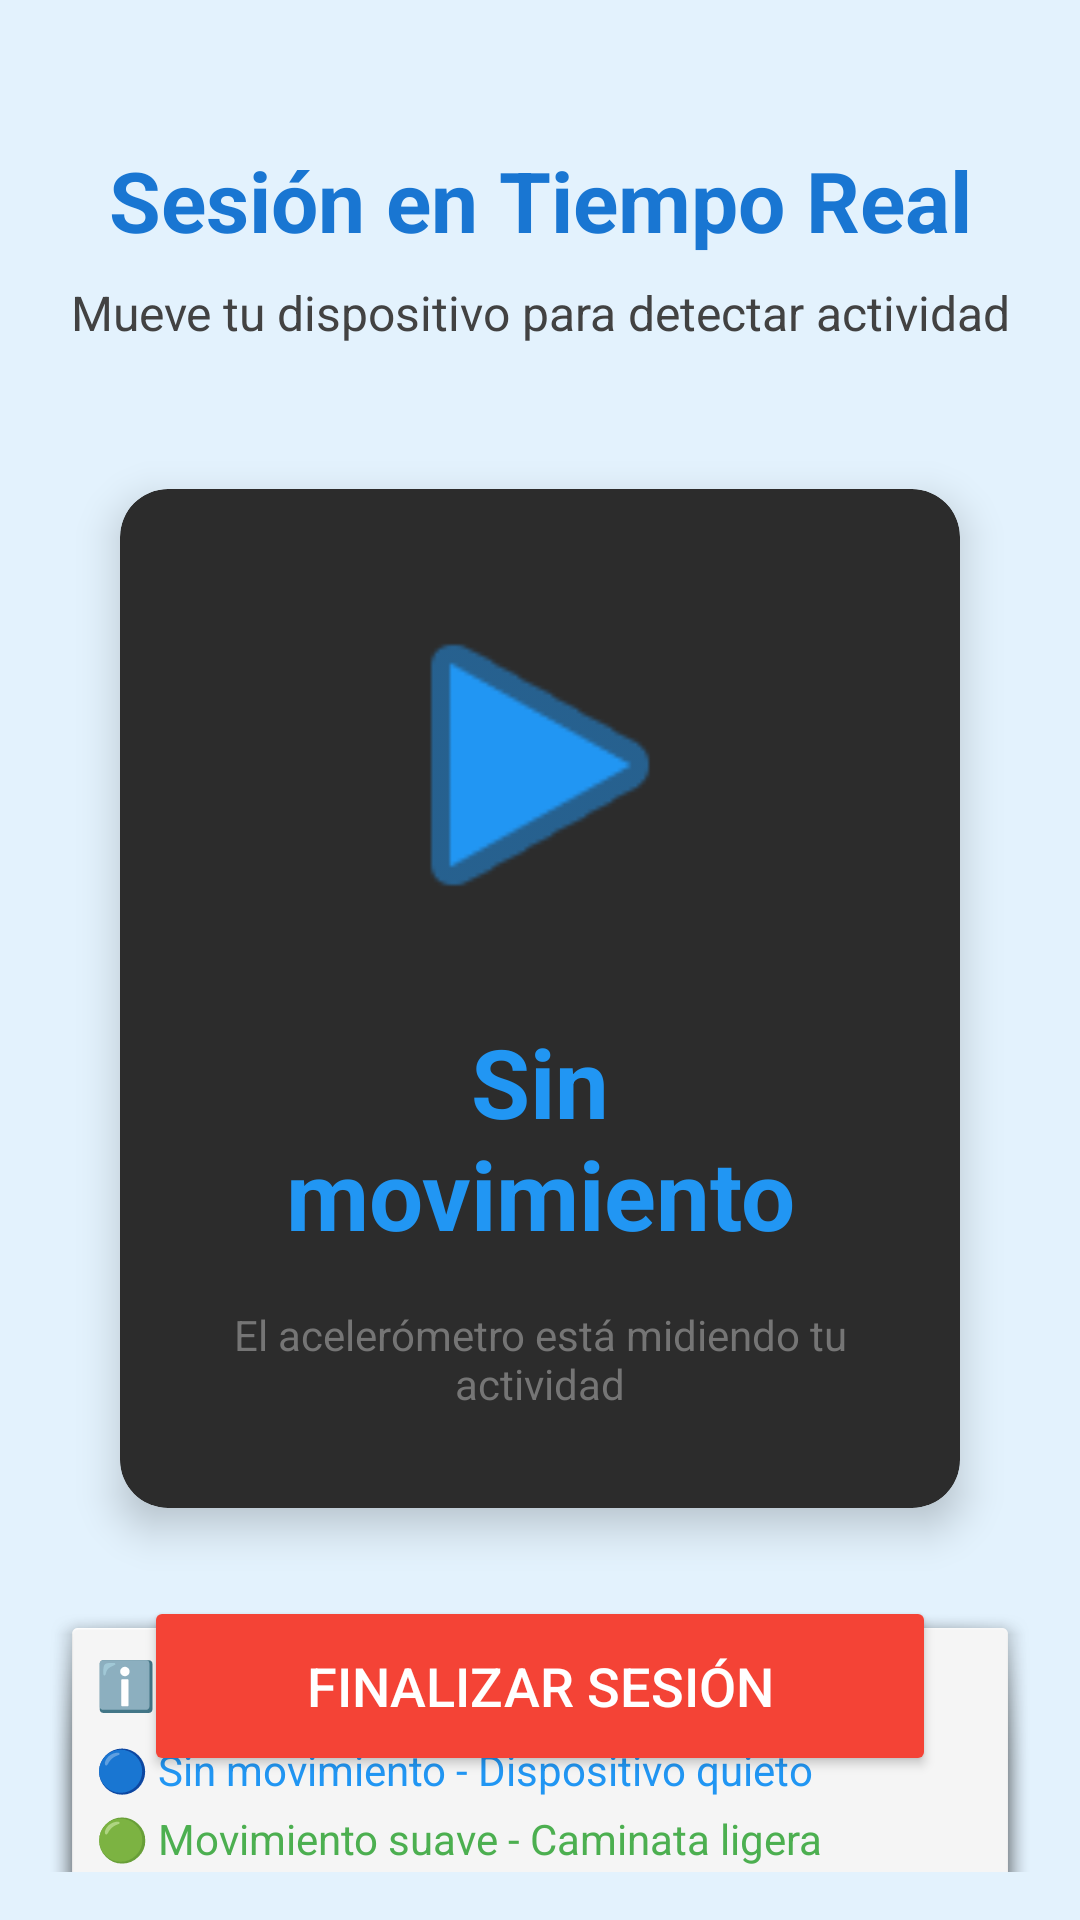

Named icons in this screenshot (1080*1920) and their centers, (x=x, y=y):
play: (x=540, y=765)
